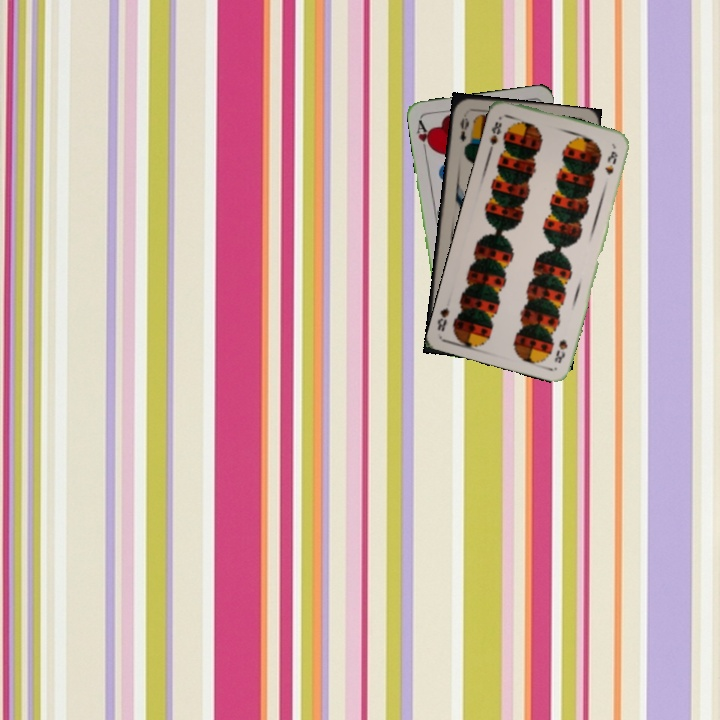EO: (456, 114, 472, 144)
HA: (413, 116, 434, 156)
S8: (486, 117, 504, 153), (550, 335, 570, 366)
